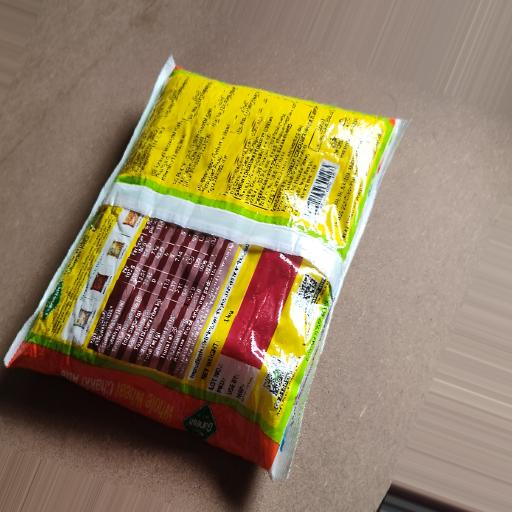Ganesh Atta: (0, 38, 422, 493)
